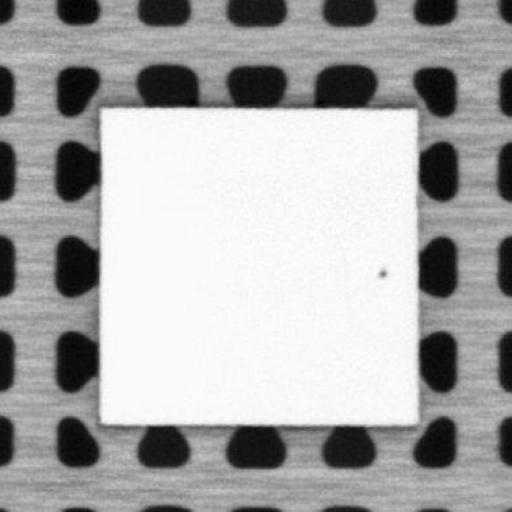DIE_INK: (374, 264, 387, 280)
